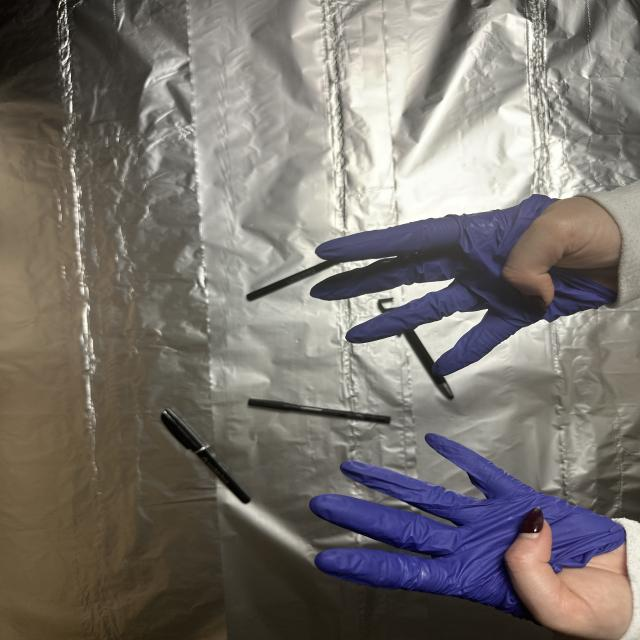glove_partial: (304, 430, 638, 640), (313, 192, 628, 380)
